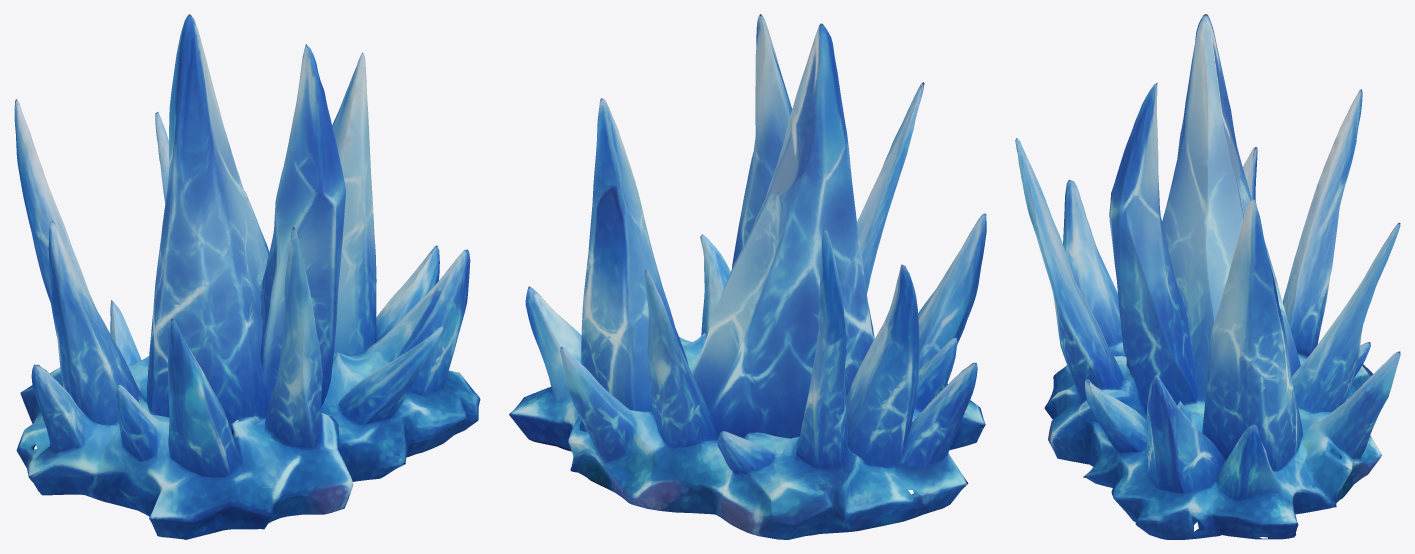
File: nature-icicles.glb
The picture shows the model from 3 angles, left to right: view 1: azimuth 30°, elevation 25°; view 2: azimuth 150°, elevation 25°; view 3: azimuth 270°, elevation 25°; orthographic projection. The views are drawn at different scales.
Parts seen in each view (by area): view 1: world_0; view 2: world_0; view 3: world_0.
Part boxes in pixels (x1,y1,x2,y2): world_0: [14, 14, 480, 539]; world_0: [509, 14, 986, 539]; world_0: [1015, 14, 1400, 539].
Size of the model in its own units: 0.8905 by 0.8877 by 0.7513.
Materials: 1 (1 with a texture image).
